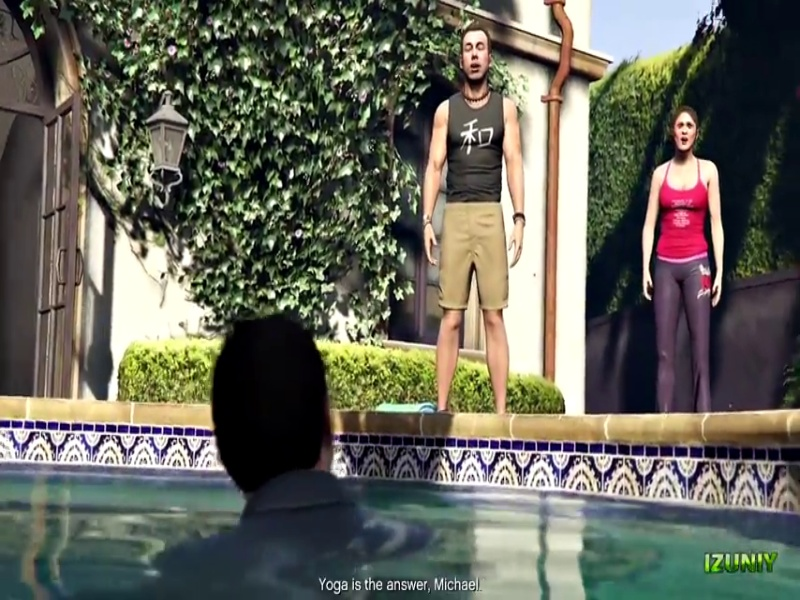human: (613, 93, 729, 428)
